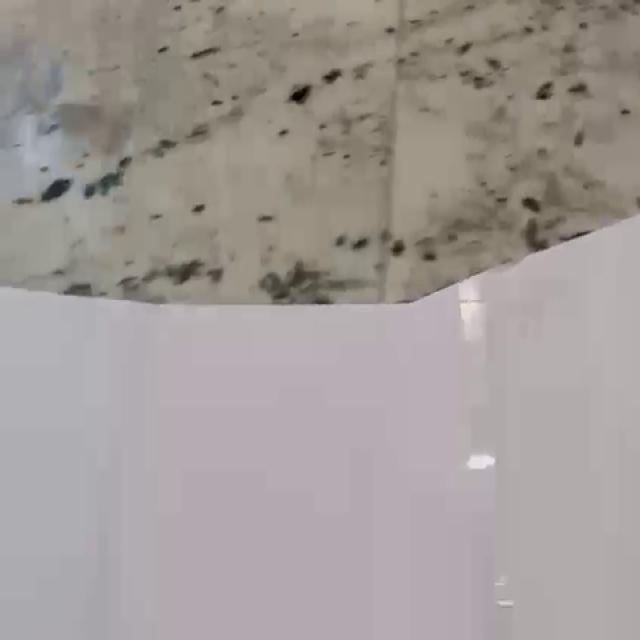road: (0, 215, 640, 640)
